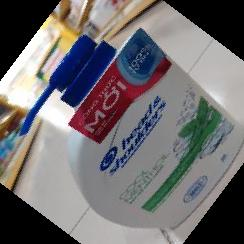h_s: (17, 30, 244, 228)
